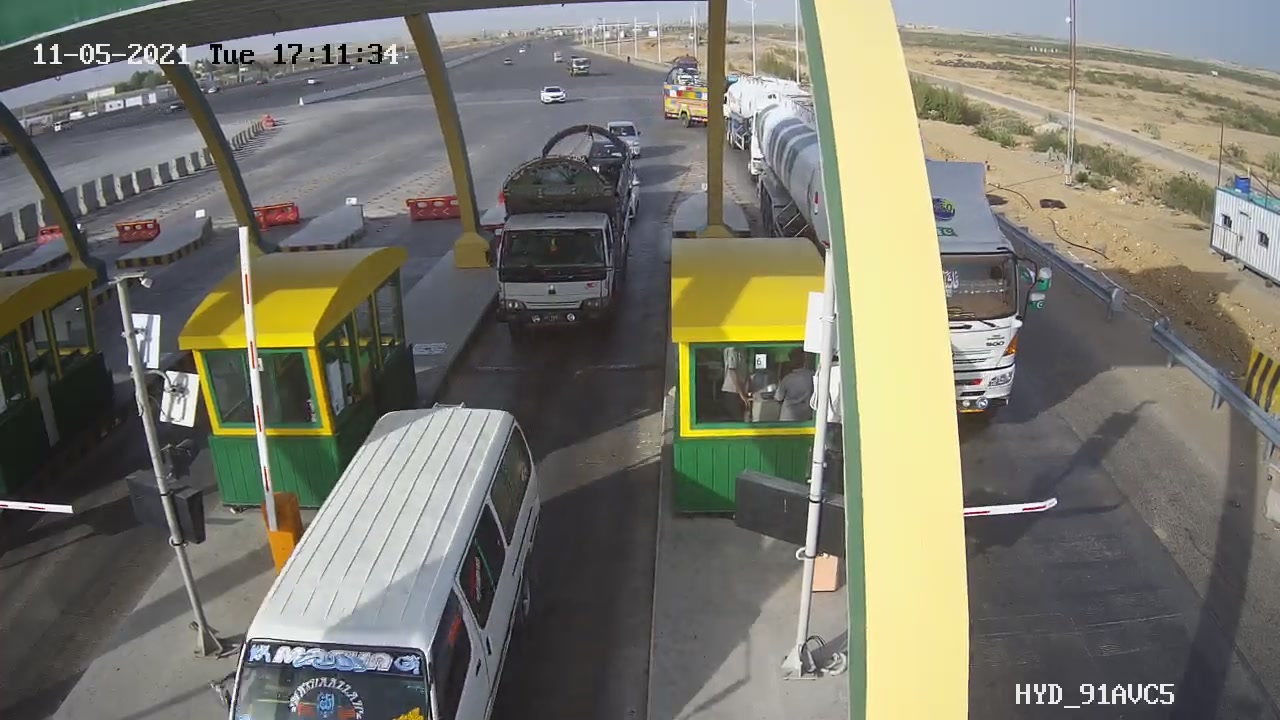F5: (473, 114, 655, 355)
